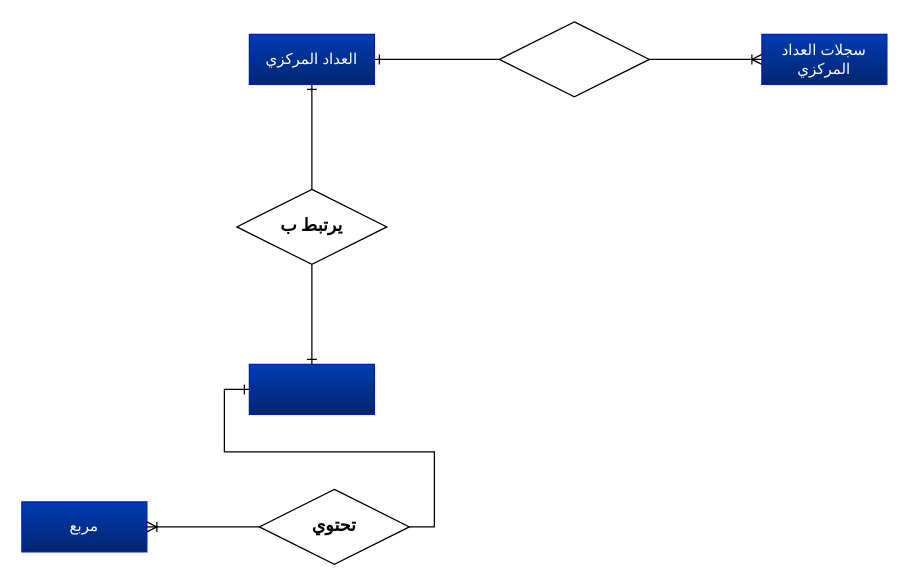
Some shapes in this 909 by 586 pixel diagram are drawn without their labels. Here are the shapes that lost their labels. From the top down, the centre of each, then its label:
At (573,59): "تسجل".
At (311,388): "منطقة".
